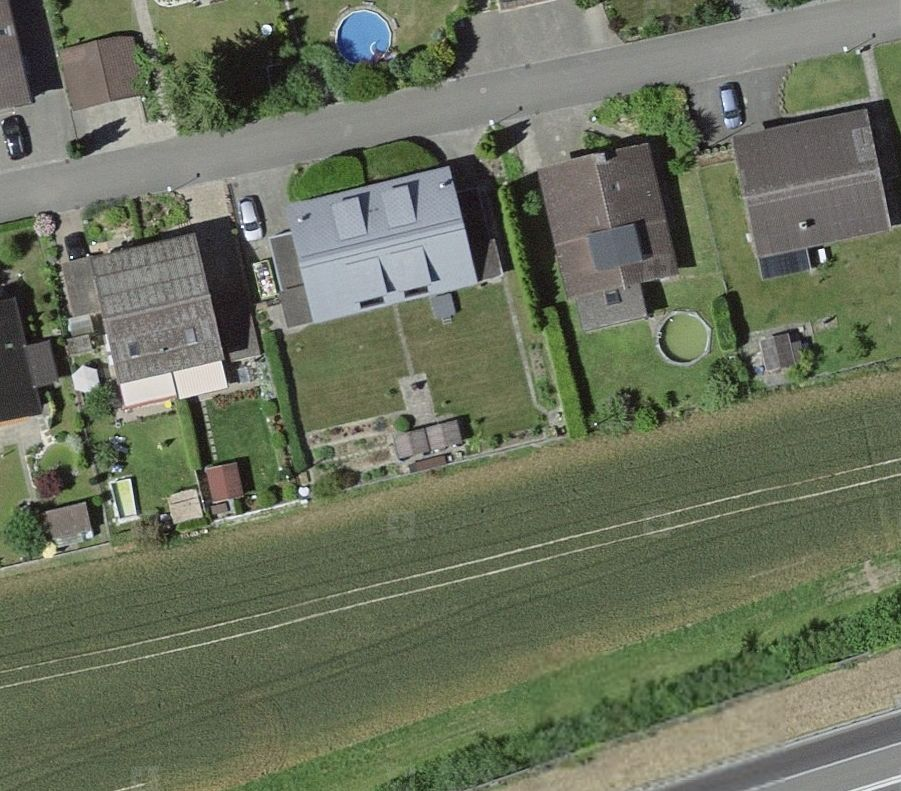solar: (749, 239, 822, 289)
